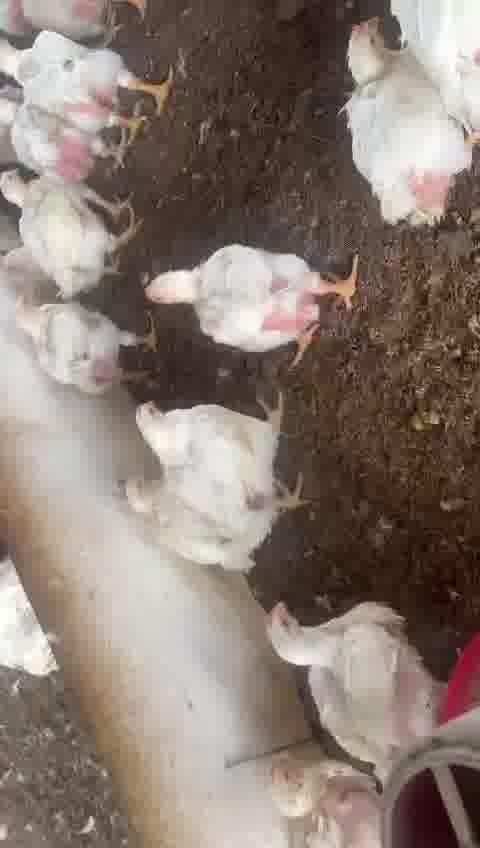AbNormal: (246, 730, 379, 848), (108, 472, 234, 576)
Normal: (265, 596, 459, 753), (337, 11, 468, 233), (147, 236, 373, 360), (133, 395, 298, 522), (0, 27, 186, 136), (0, 261, 135, 403), (0, 153, 131, 287), (0, 91, 101, 170)
